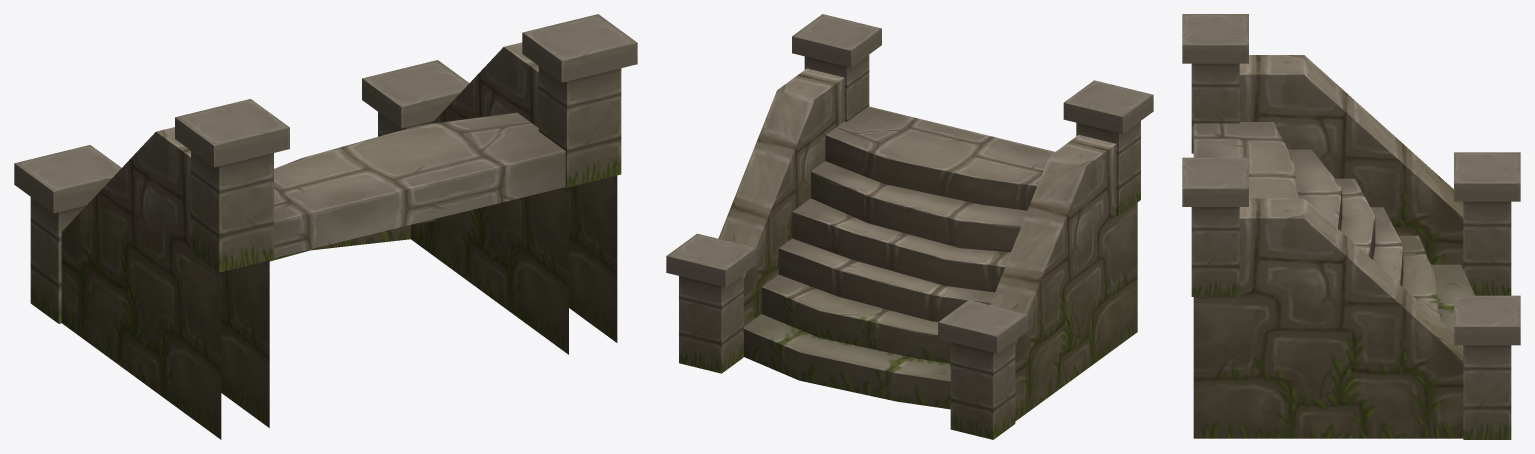
The model's file is Stairs.FBX.
3 views of the same model, side by side, from view 1: azimuth 30°, elevation 25°; view 2: azimuth 150°, elevation 25°; view 3: azimuth 270°, elevation 25° (orthographic). The views are drawn at different scales.
Visible parts, largest first — view 1: Stairs; view 2: Stairs; view 3: Stairs.
Part boxes in pixels (x1,y1,x2,y2): Stairs: [14, 14, 637, 439]; Stairs: [666, 14, 1153, 439]; Stairs: [1182, 14, 1520, 439].
Size of the model in its own units: 4.33 by 2.95 by 3.54.
